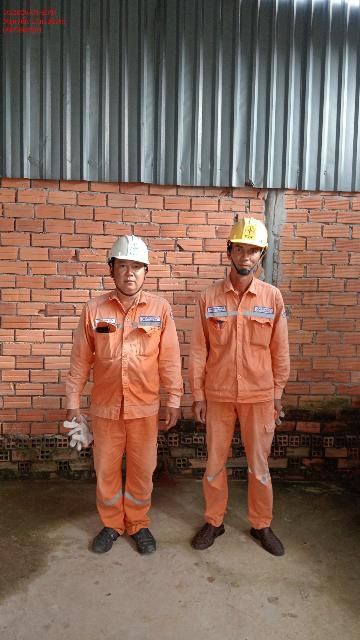gloves: (56, 415, 98, 455)
helmet: (77, 224, 162, 276), (227, 214, 279, 258)
shoes: (246, 514, 292, 565), (188, 511, 238, 556), (92, 514, 128, 562), (132, 520, 162, 556)
